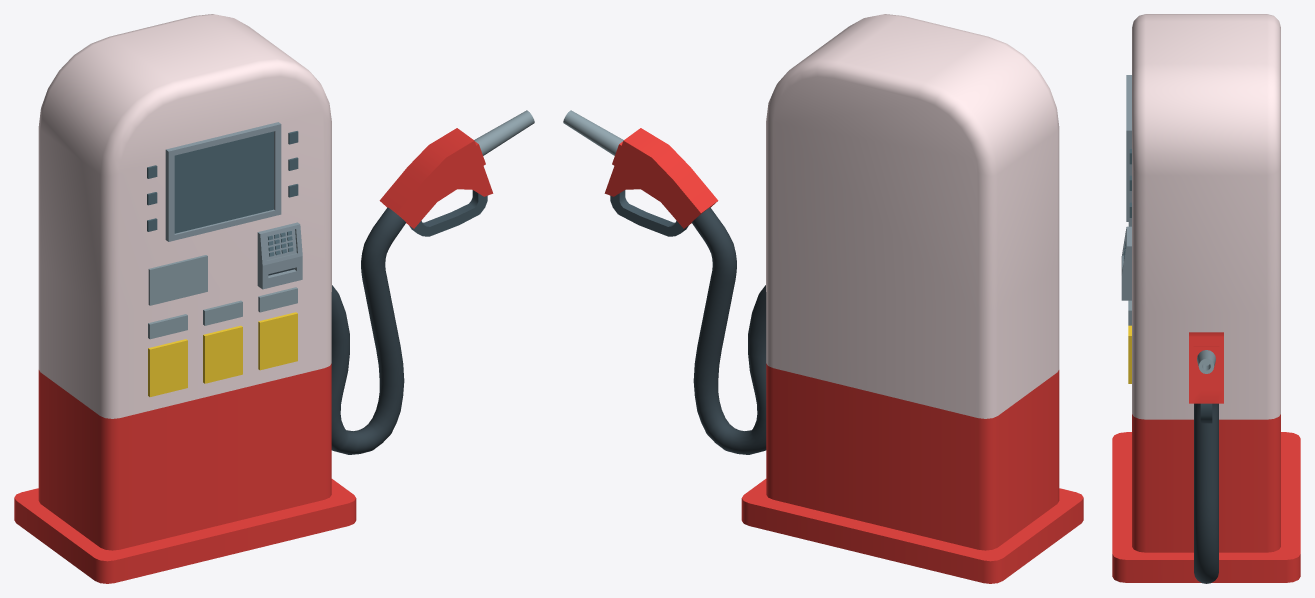
The model's file is fuel_pump.glb.
3 renders of one model, left to right at view 1: azimuth 30°, elevation 25°; view 2: azimuth 150°, elevation 25°; view 3: azimuth 270°, elevation 25°, orthographic.
Parts seen in each view (by area): view 1: Cube.754, Cube.755, Cube.756, Cylinder.449, Cube.757; view 2: Cube.754, Cylinder.449, Cube.757; view 3: Cube.754, Cylinder.449, Cube.757, Cube.755, Cube.756.
Part boxes in pixels (x1=…): Cube.754: x1=14, y1=14, x2=356, y2=583; Cube.755: x1=147, y1=122, x2=302, y2=289; Cube.756: x1=148, y1=255, x2=297, y2=396; Cylinder.449: x1=331, y1=207, x2=406, y2=454; Cube.757: x1=379, y1=110, x2=534, y2=236; Cube.754: x1=741, y1=14, x2=1083, y2=583; Cylinder.449: x1=691, y1=207, x2=766, y2=454; Cube.757: x1=563, y1=110, x2=718, y2=236; Cube.754: x1=1112, y1=14, x2=1300, y2=582; Cylinder.449: x1=1194, y1=403, x2=1218, y2=583; Cube.757: x1=1189, y1=332, x2=1223, y2=423; Cube.755: x1=1121, y1=75, x2=1131, y2=300; Cube.756: x1=1128, y1=222, x2=1131, y2=383.
Bounding box in the file's own units: 2.24 × 2.12 × 0.7581.
1 material, 1 textured.
